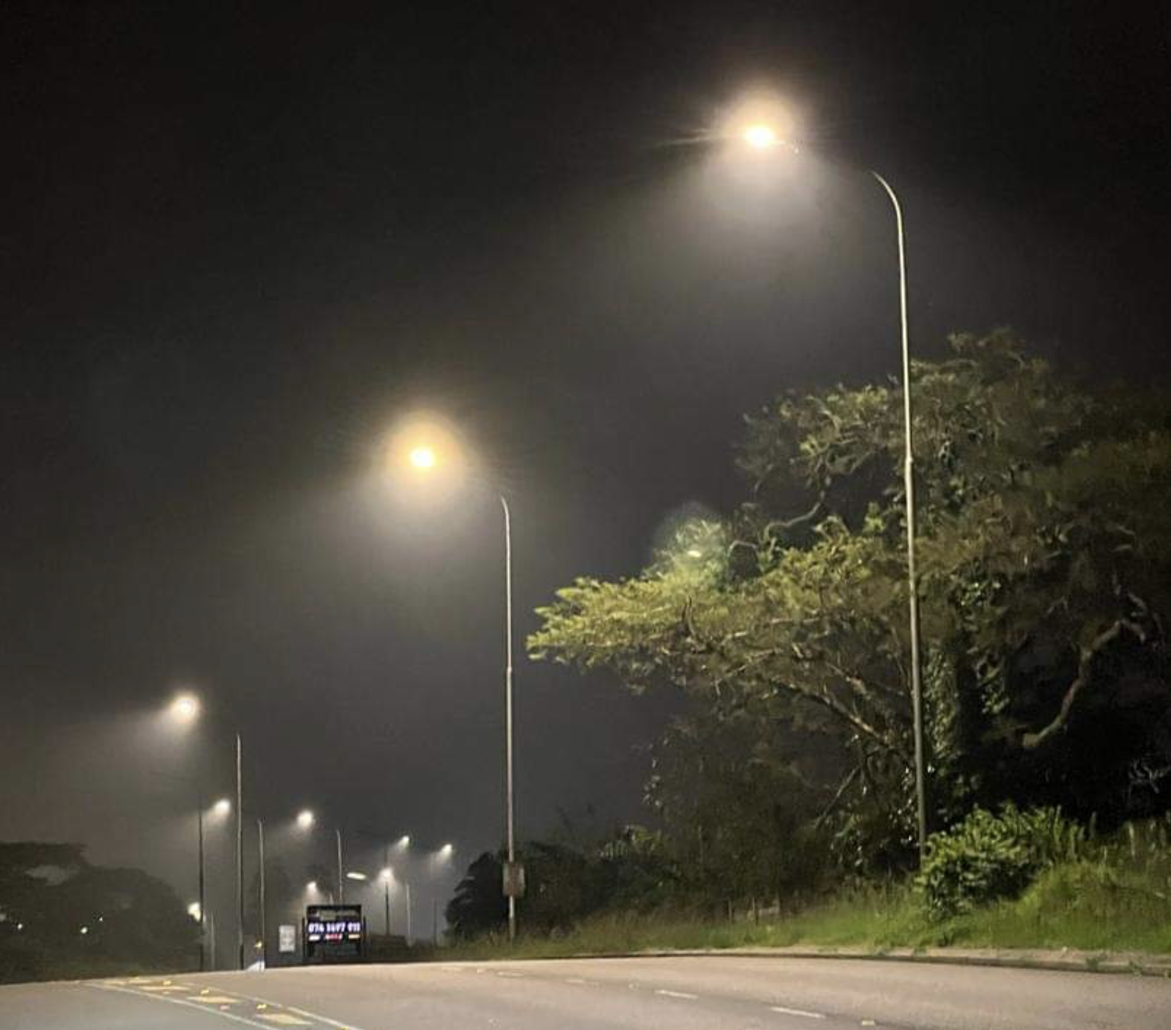HPS: (707, 111, 821, 179), (384, 431, 476, 492)
